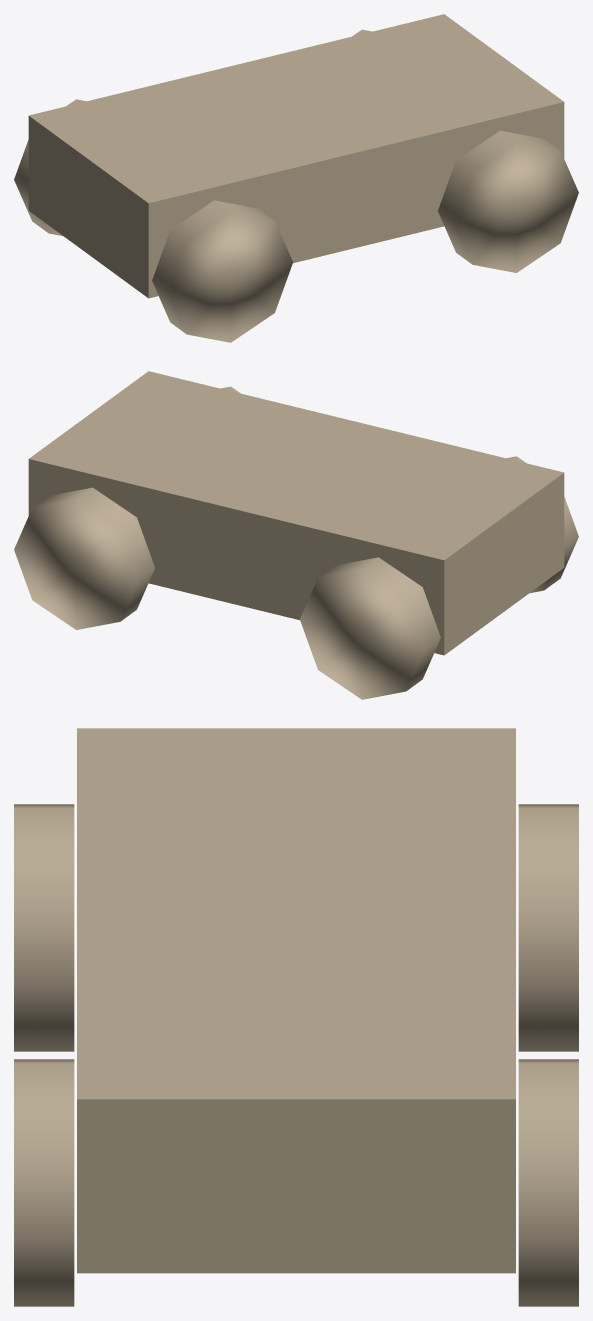
Rendered from cart.glb.
3 renders of one model, top to bottom at view 1: azimuth 30°, elevation 25°; view 2: azimuth 150°, elevation 25°; view 3: azimuth 270°, elevation 25°, orthographic. The views are drawn at different scales.
Parts seen in each view (by area): view 1: bed, wheel--1.1-0.92, wheel-1.1-0.92, wheel--1.1--0.92; view 2: bed, wheel--1.1--0.92, wheel-1.1--0.92, wheel--1.1-0.92; view 3: bed, wheel--1.1--0.92, wheel--1.1-0.92, wheel-1.1--0.92, wheel-1.1-0.92.
Part boxes in pixels (x1,y1,x2,y2): bed: (28,14,564,298); wheel--1.1-0.92: (152,200,292,342); wheel-1.1-0.92: (438,130,578,272); wheel--1.1--0.92: (14,99,85,235); bed: (28,371,564,655); wheel--1.1--0.92: (300,557,440,699); wheel-1.1--0.92: (14,487,154,629); wheel--1.1-0.92: (507,456,578,592); bed: (77,728,515,1273); wheel--1.1--0.92: (518,804,578,1051); wheel--1.1-0.92: (14,804,74,1051); wheel-1.1--0.92: (518,1059,578,1306); wheel-1.1-0.92: (14,1059,74,1306).
Size of the model in its own units: 3.2 by 1.05 by 2.06.
